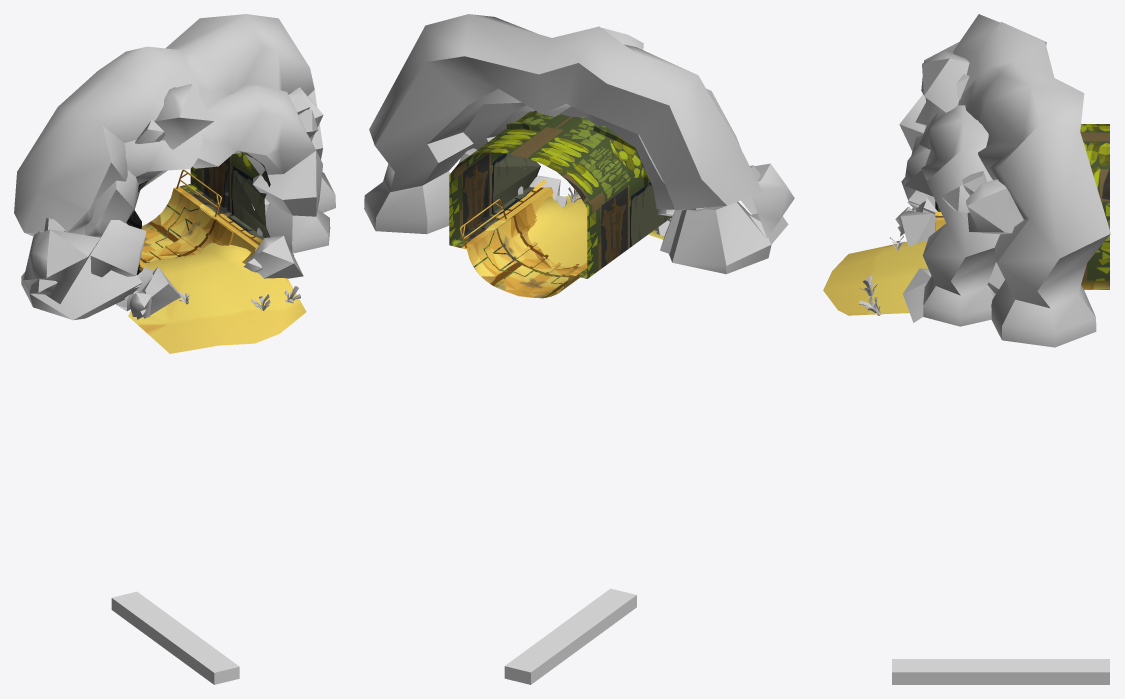
Rendered from exit_room.FBX.
3 renders of one model, left to right at view 1: azimuth 30°, elevation 25°; view 2: azimuth 150°, elevation 25°; view 3: azimuth 270°, elevation 25°, orthographic. The views are drawn at different scales.
Visible parts, largest first — view 1: Cylinder055, Plane011, Line051, Room_size_BOX, Room_Exit; view 2: Cylinder055, Line051, Room_size_BOX, Plane011, Room_Exit; view 3: Cylinder055, Room_size_BOX, Plane011, Line051.
Part boxes in pixels (x1,y1,x2,y2): Cylinder055: (14,14,335,320); Plane011: (128,242,306,353); Line051: (126,151,270,274); Room_size_BOX: (111,591,239,684); Room_Exit: (139,185,262,267); Cylinder055: (364,14,794,274); Line051: (449,110,671,298); Room_size_BOX: (504,588,636,684); Plane011: (527,194,664,267); Room_Exit: (456,179,587,298); Cylinder055: (895,14,1110,347); Room_size_BOX: (892,659,1109,684); Plane011: (823,241,928,315); Line051: (935,124,1109,289).
Bounding box in the file's own units: 4928 × 3294 × 8108.
